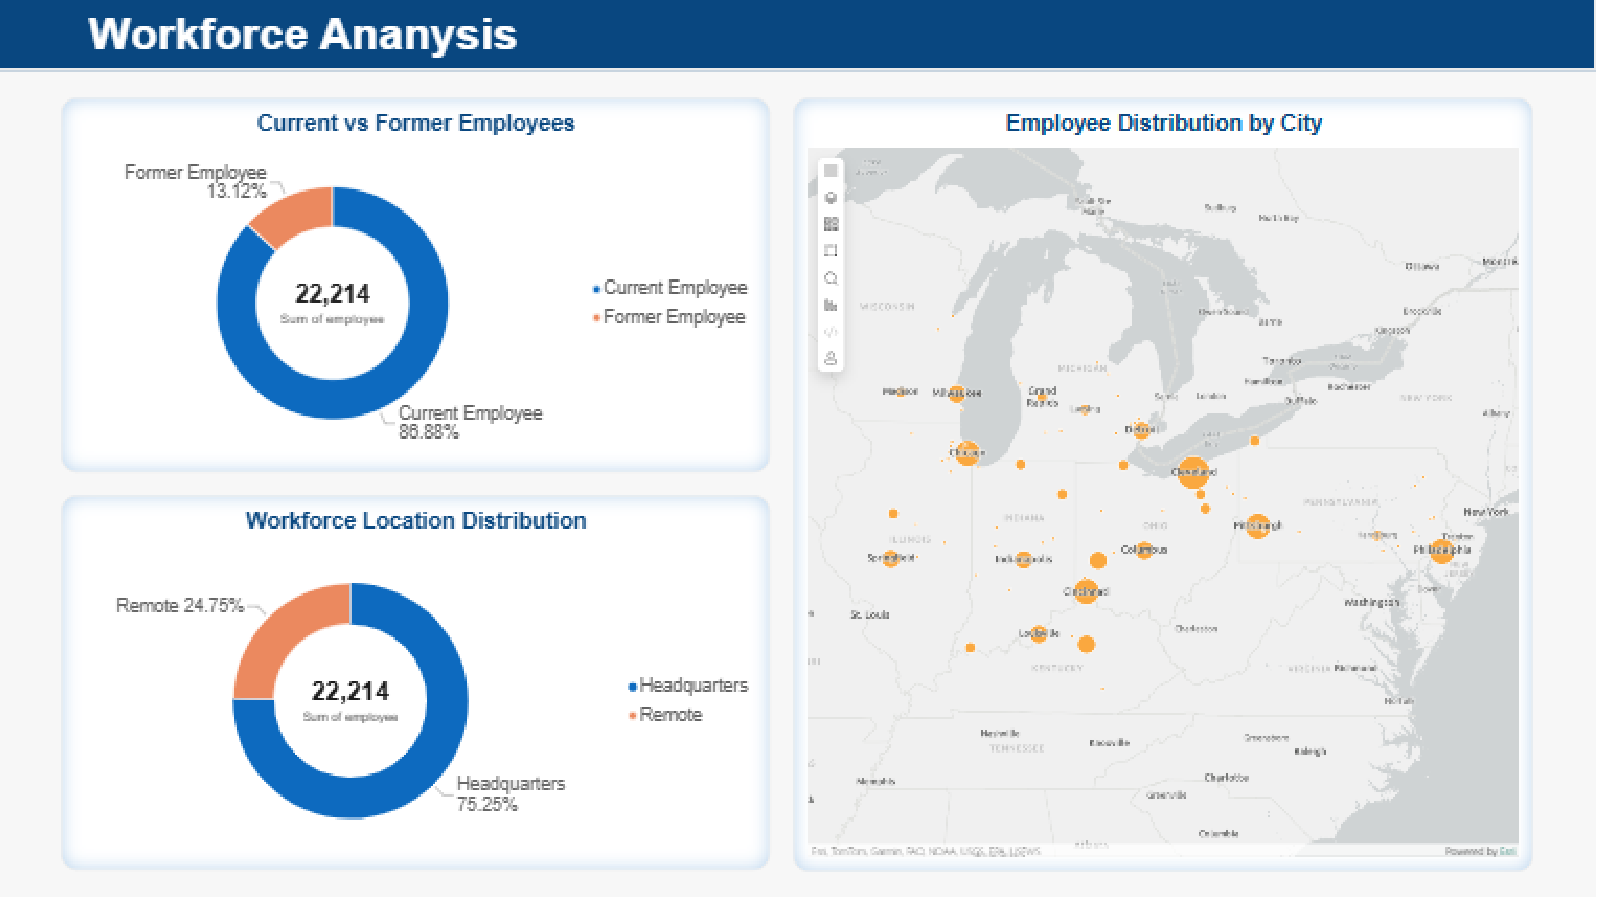

The dashboard page shown, as its layout file describes it:
{"tool":"powerbi","page":{"name":"Workforce Analysis","canvas":[1920,1080],"ordinal":1},"visuals":[{"type":"textbox","box":[0,0,1920,92.5],"z":0},{"type":"donutChart","title":"Current vs Former Employees","fields":{"Category":["07_Employee_Status.employee_status"],"Y":["Sum(07_Employee_Status.employee_count)"]},"box":[85,125,847.5,447.5],"z":1000},{"type":"donutChart","title":"Workforce Location Distribution","fields":{"Category":["08_Location_Distribution.location"],"Y":["Sum(08_Location_Distribution.employee_count)"]},"box":[85,600,847.5,447.5],"z":2000},{"type":"esriVisual","title":"Employee Distribution by City","fields":{"Location":["09_City_Distribution.Full_Location"],"Size":["Sum(09_City_Distribution.employee_count)"]},"box":[960,125,885,925],"z":3000}]}

Visuals, with their boxes in screenshot pixels (x1, y1, x2, y2), scaled from the page's 1920x1080 canvas onto the 1600x900 screenshot:
textbox: Rect(0, 0, 1599, 77)
"Current vs Former Employees" donutChart: Rect(71, 104, 777, 477)
"Workforce Location Distribution" donutChart: Rect(71, 500, 777, 873)
"Employee Distribution by City" esriVisual: Rect(800, 104, 1538, 875)
